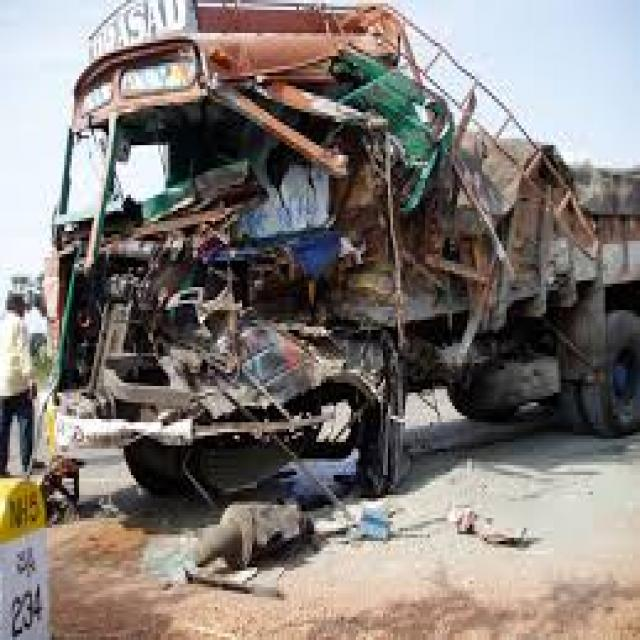accident: (54, 0, 640, 521)
